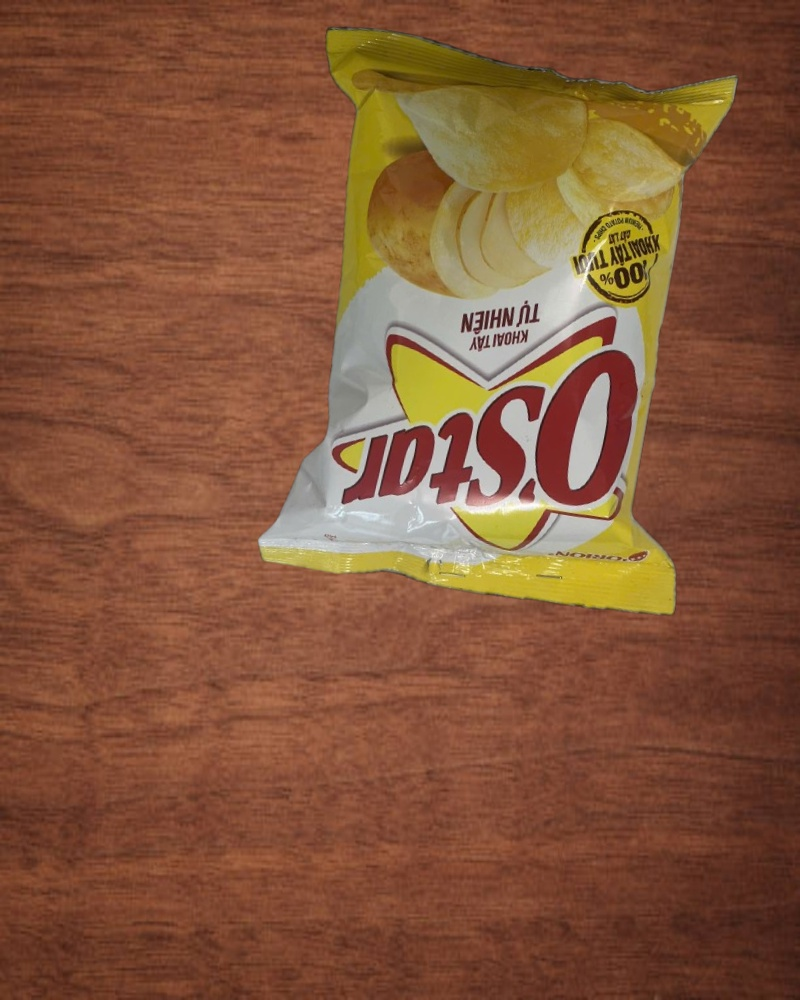Snack cua: (241, 12, 765, 627)
